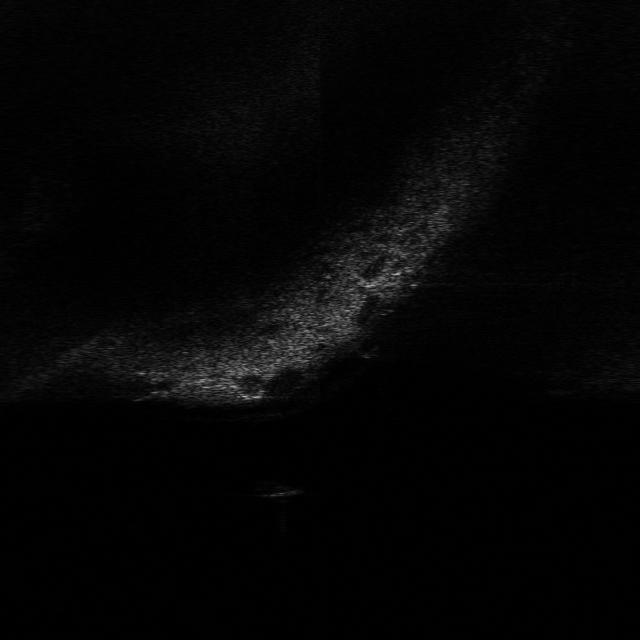cube: (250, 476, 302, 500)
